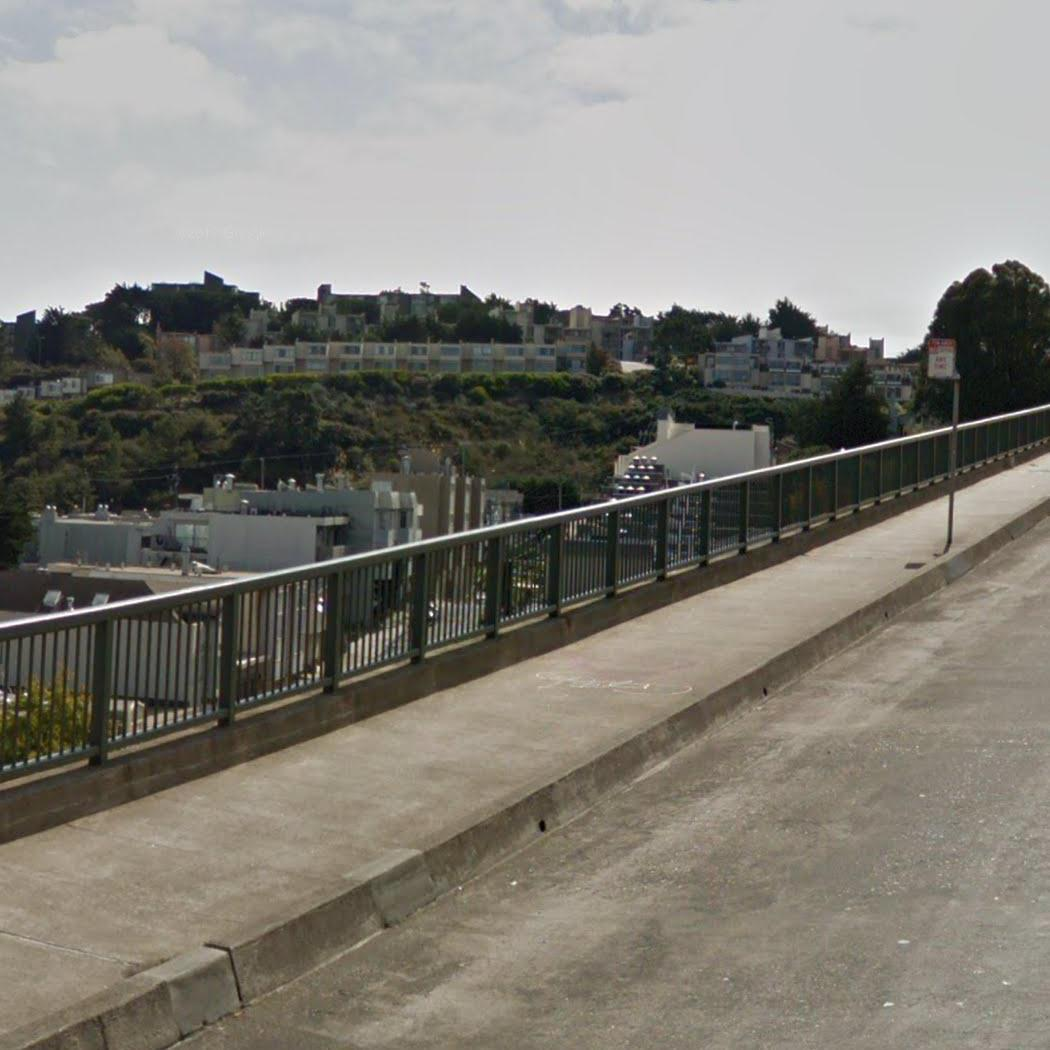No Parking Anytime: (921, 335, 959, 379)
